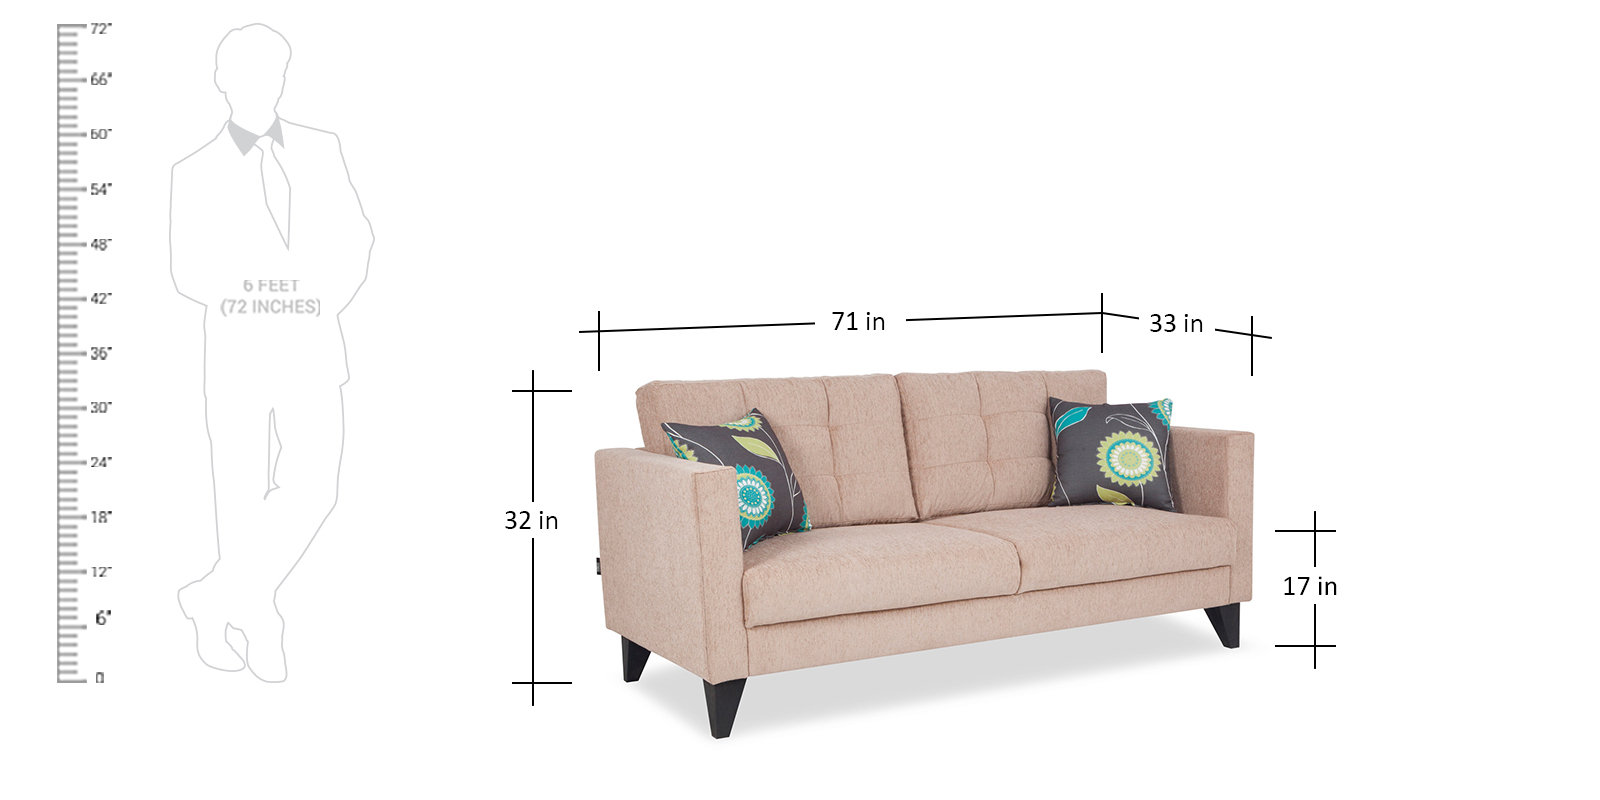Greenwich Three Seater Sofa in Beige Colour by Urban Living: (584, 364, 1277, 747)
